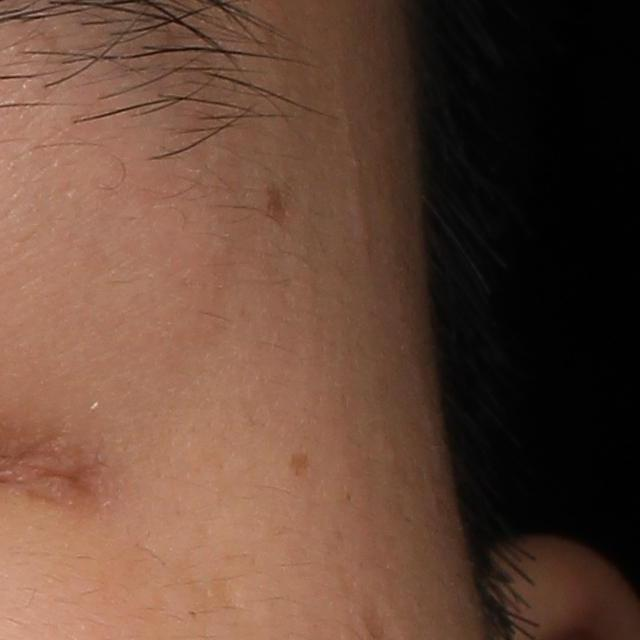nevus: (263, 184, 287, 226)
